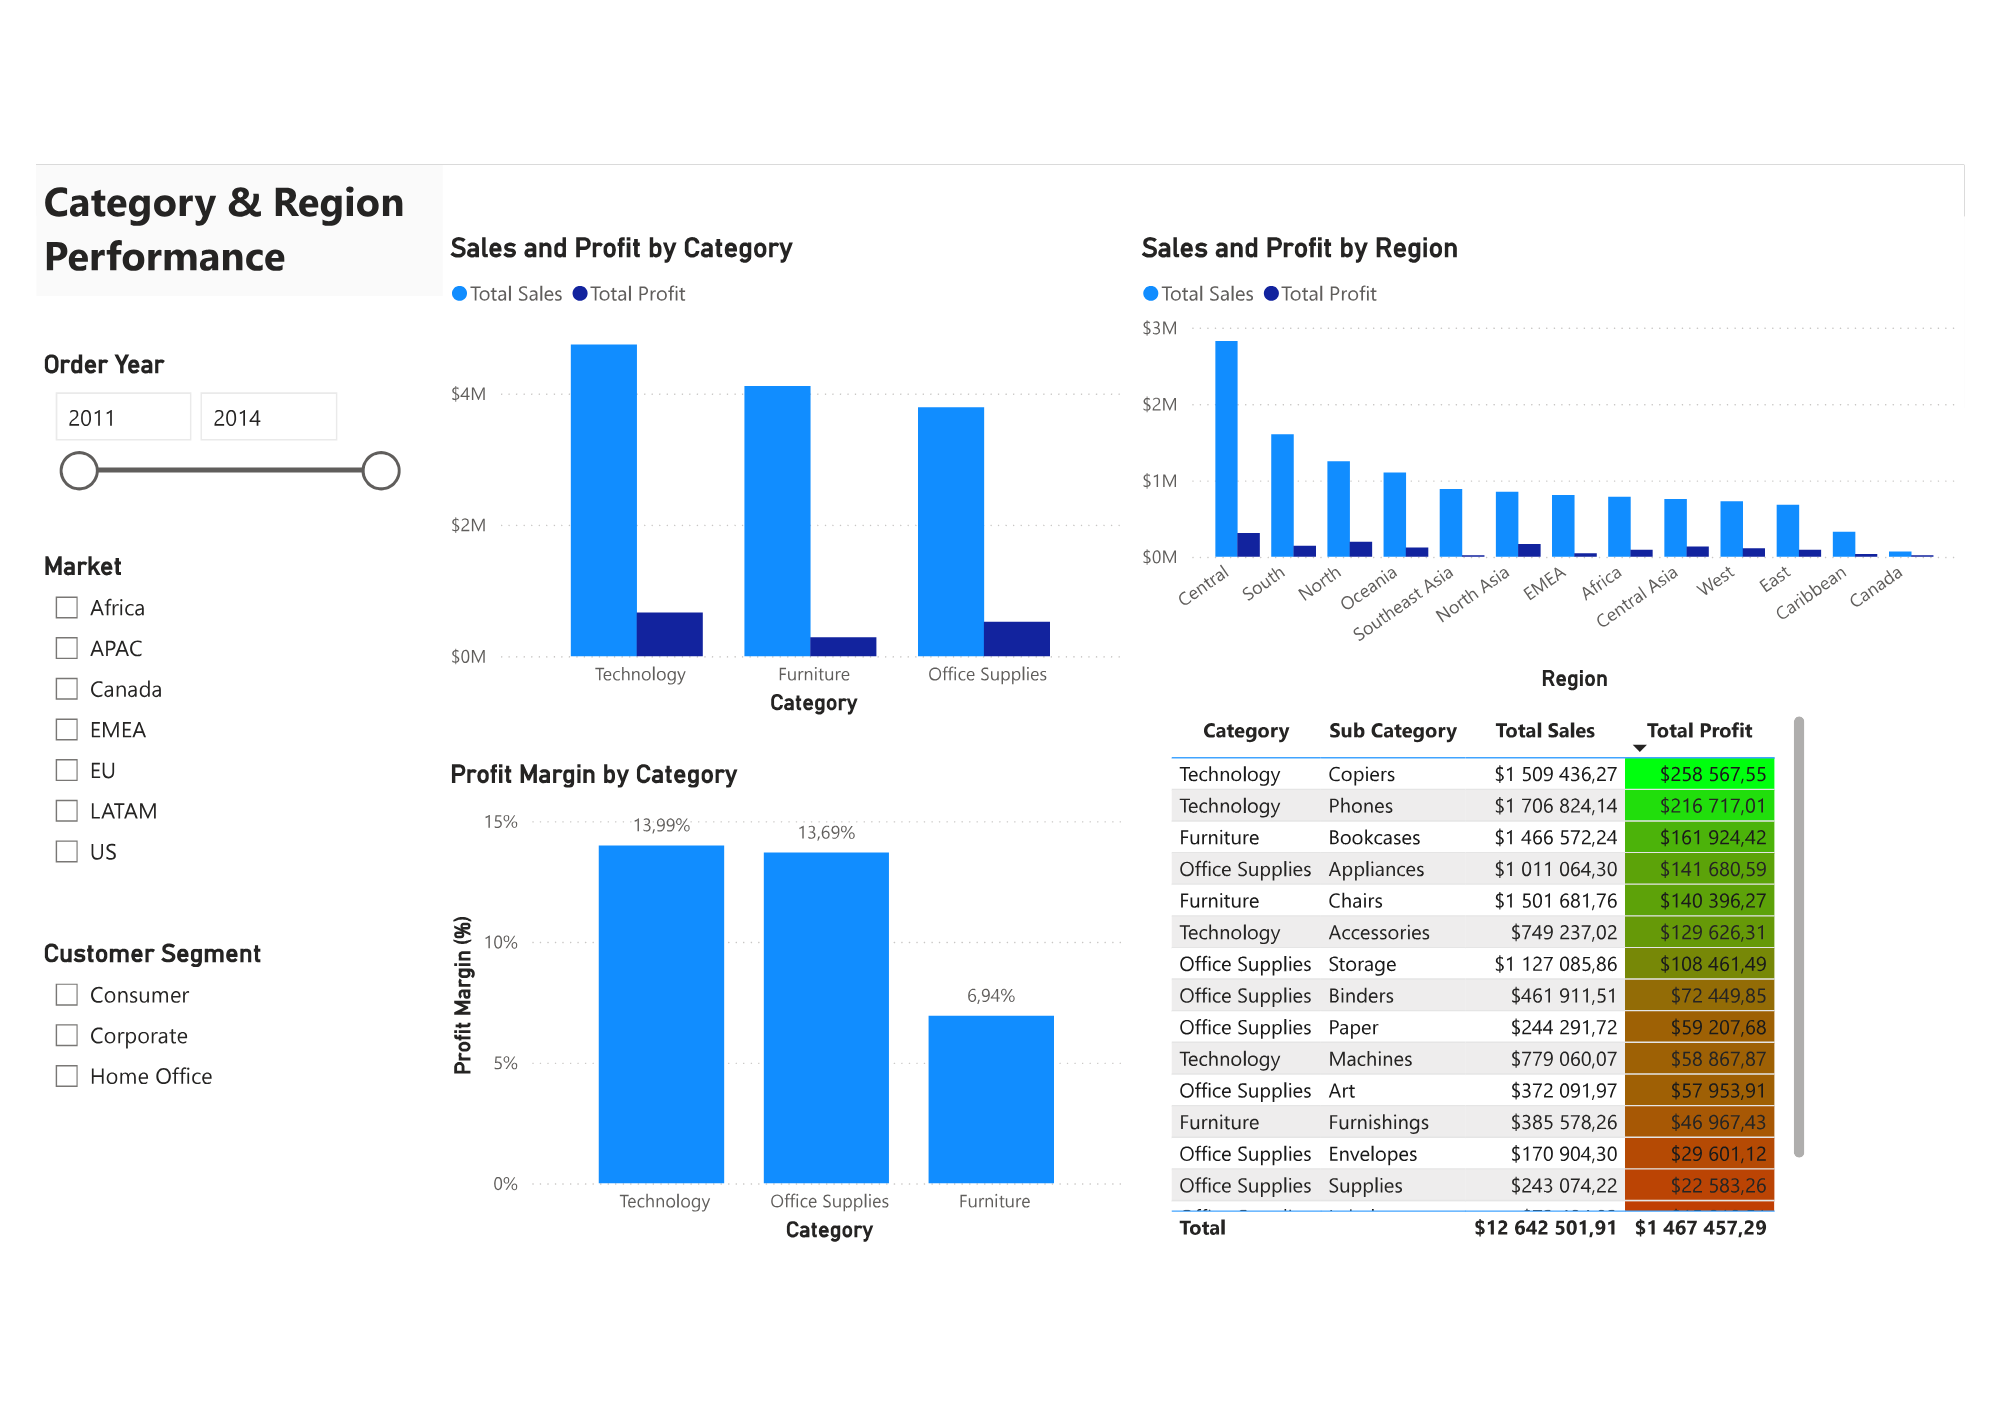

Layout of this report page (visuals, bound fields, positions):
{"tool":"powerbi","page":{"name":"Category & Region Performance","canvas":[1280,720],"ordinal":1},"visuals":[{"type":"clusteredColumnChart","title":"Sales and Profit by Category","fields":{"Category":["fact_sales.category"],"Y":["fact_sales.Total Sales","fact_sales.Total Profit"]},"box":[269.8,43.9,459.6,325.8],"z":0},{"type":"clusteredColumnChart","title":"Sales and Profit by Region","fields":{"Y":["fact_sales.Total Sales","fact_sales.Total Profit"],"Category":["fact_sales.region"]},"box":[729.4,43.9,550.6,310],"z":1000},{"type":"tableEx","fields":{"Values":["fact_sales.category","fact_sales.sub_category","fact_sales.Total Sales","fact_sales.Total Profit"]},"box":[748,359.8,432.2,359.8],"z":2000},{"type":"slicer","title":"Order Year","fields":{"Values":["fact_sales.order_year"]},"box":[0,121.8,250.1,124],"z":3000},{"type":"slicer","title":"Market","fields":{"Values":["fact_sales.market"]},"box":[0,255.6,250.1,226],"z":4000},{"type":"slicer","title":"Customer Segment","fields":{"Values":["fact_sales.segment"]},"box":[0,513.4,250.1,110.8],"z":5000},{"type":"textbox","box":[0,0,269.8,86.7],"z":6000},{"type":"clusteredColumnChart","title":"Profit Margin by Category","fields":{"Category":["fact_sales.category"],"Y":["fact_sales.Profit Margin"]},"box":[269.5,394.2,459.5,325.3],"z":7000}]}

Visuals, with their boxes on the page's 1280x720 design canvas (x1, y1, x2, y2). These are canvas units, not pixel positions in the 2000x1414 screenshot, which may show the page scaled, cropped or inside an application window:
"Sales and Profit by Category" clusteredColumnChart: BBox(270, 44, 729, 370)
"Sales and Profit by Region" clusteredColumnChart: BBox(729, 44, 1280, 354)
tableEx - fact_sales.category x fact_sales.sub_category: BBox(748, 360, 1180, 720)
"Order Year" slicer: BBox(0, 122, 250, 246)
"Market" slicer: BBox(0, 256, 250, 482)
"Customer Segment" slicer: BBox(0, 513, 250, 624)
textbox: BBox(0, 0, 270, 87)
"Profit Margin by Category" clusteredColumnChart: BBox(270, 394, 729, 720)
